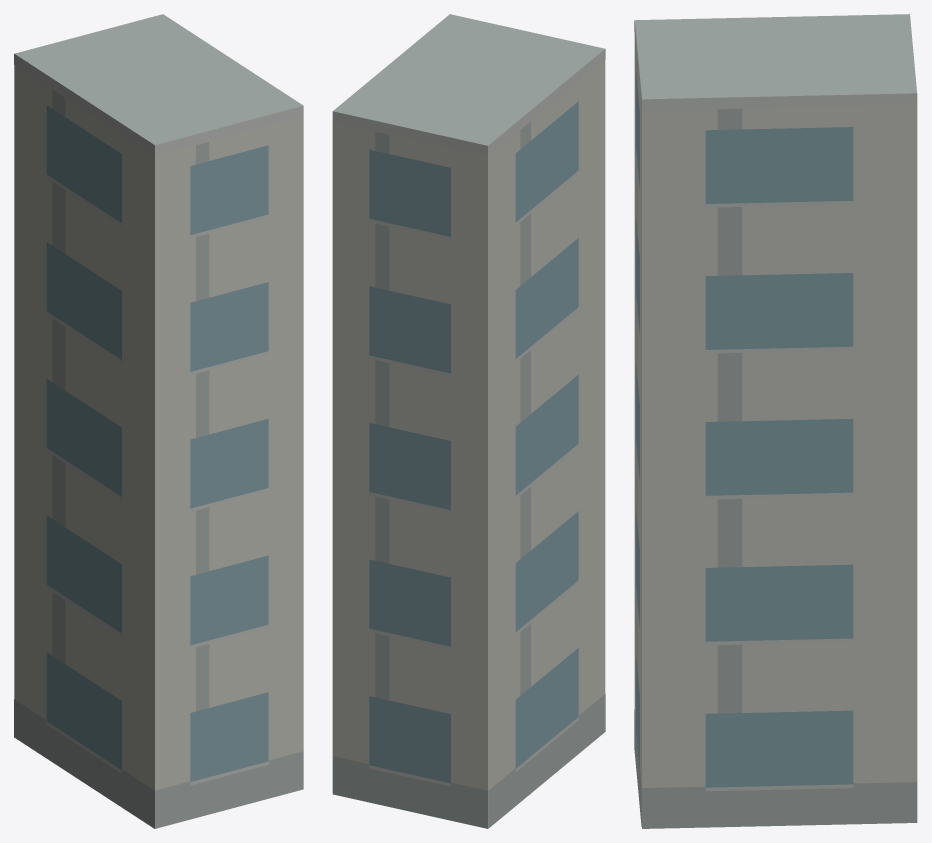
The model's file is survey-upis-32740757.glb.
3 views of the same model, side by side, from view 1: azimuth 30°, elevation 25°; view 2: azimuth 150°, elevation 25°; view 3: azimuth 270°, elevation 25° (orthographic). The views are drawn at different scales.
Parts seen in each view (by area): view 1: survey-upis-32740757.tmp; view 2: survey-upis-32740757.tmp; view 3: survey-upis-32740757.tmp.
Part boxes in pixels (x1,y1,x2,y2): survey-upis-32740757.tmp: (14,14,303,828); survey-upis-32740757.tmp: (332,14,605,828); survey-upis-32740757.tmp: (634,14,917,828).
Bounding box in the file's own units: 3.83 × 15.25 × 5.36.
